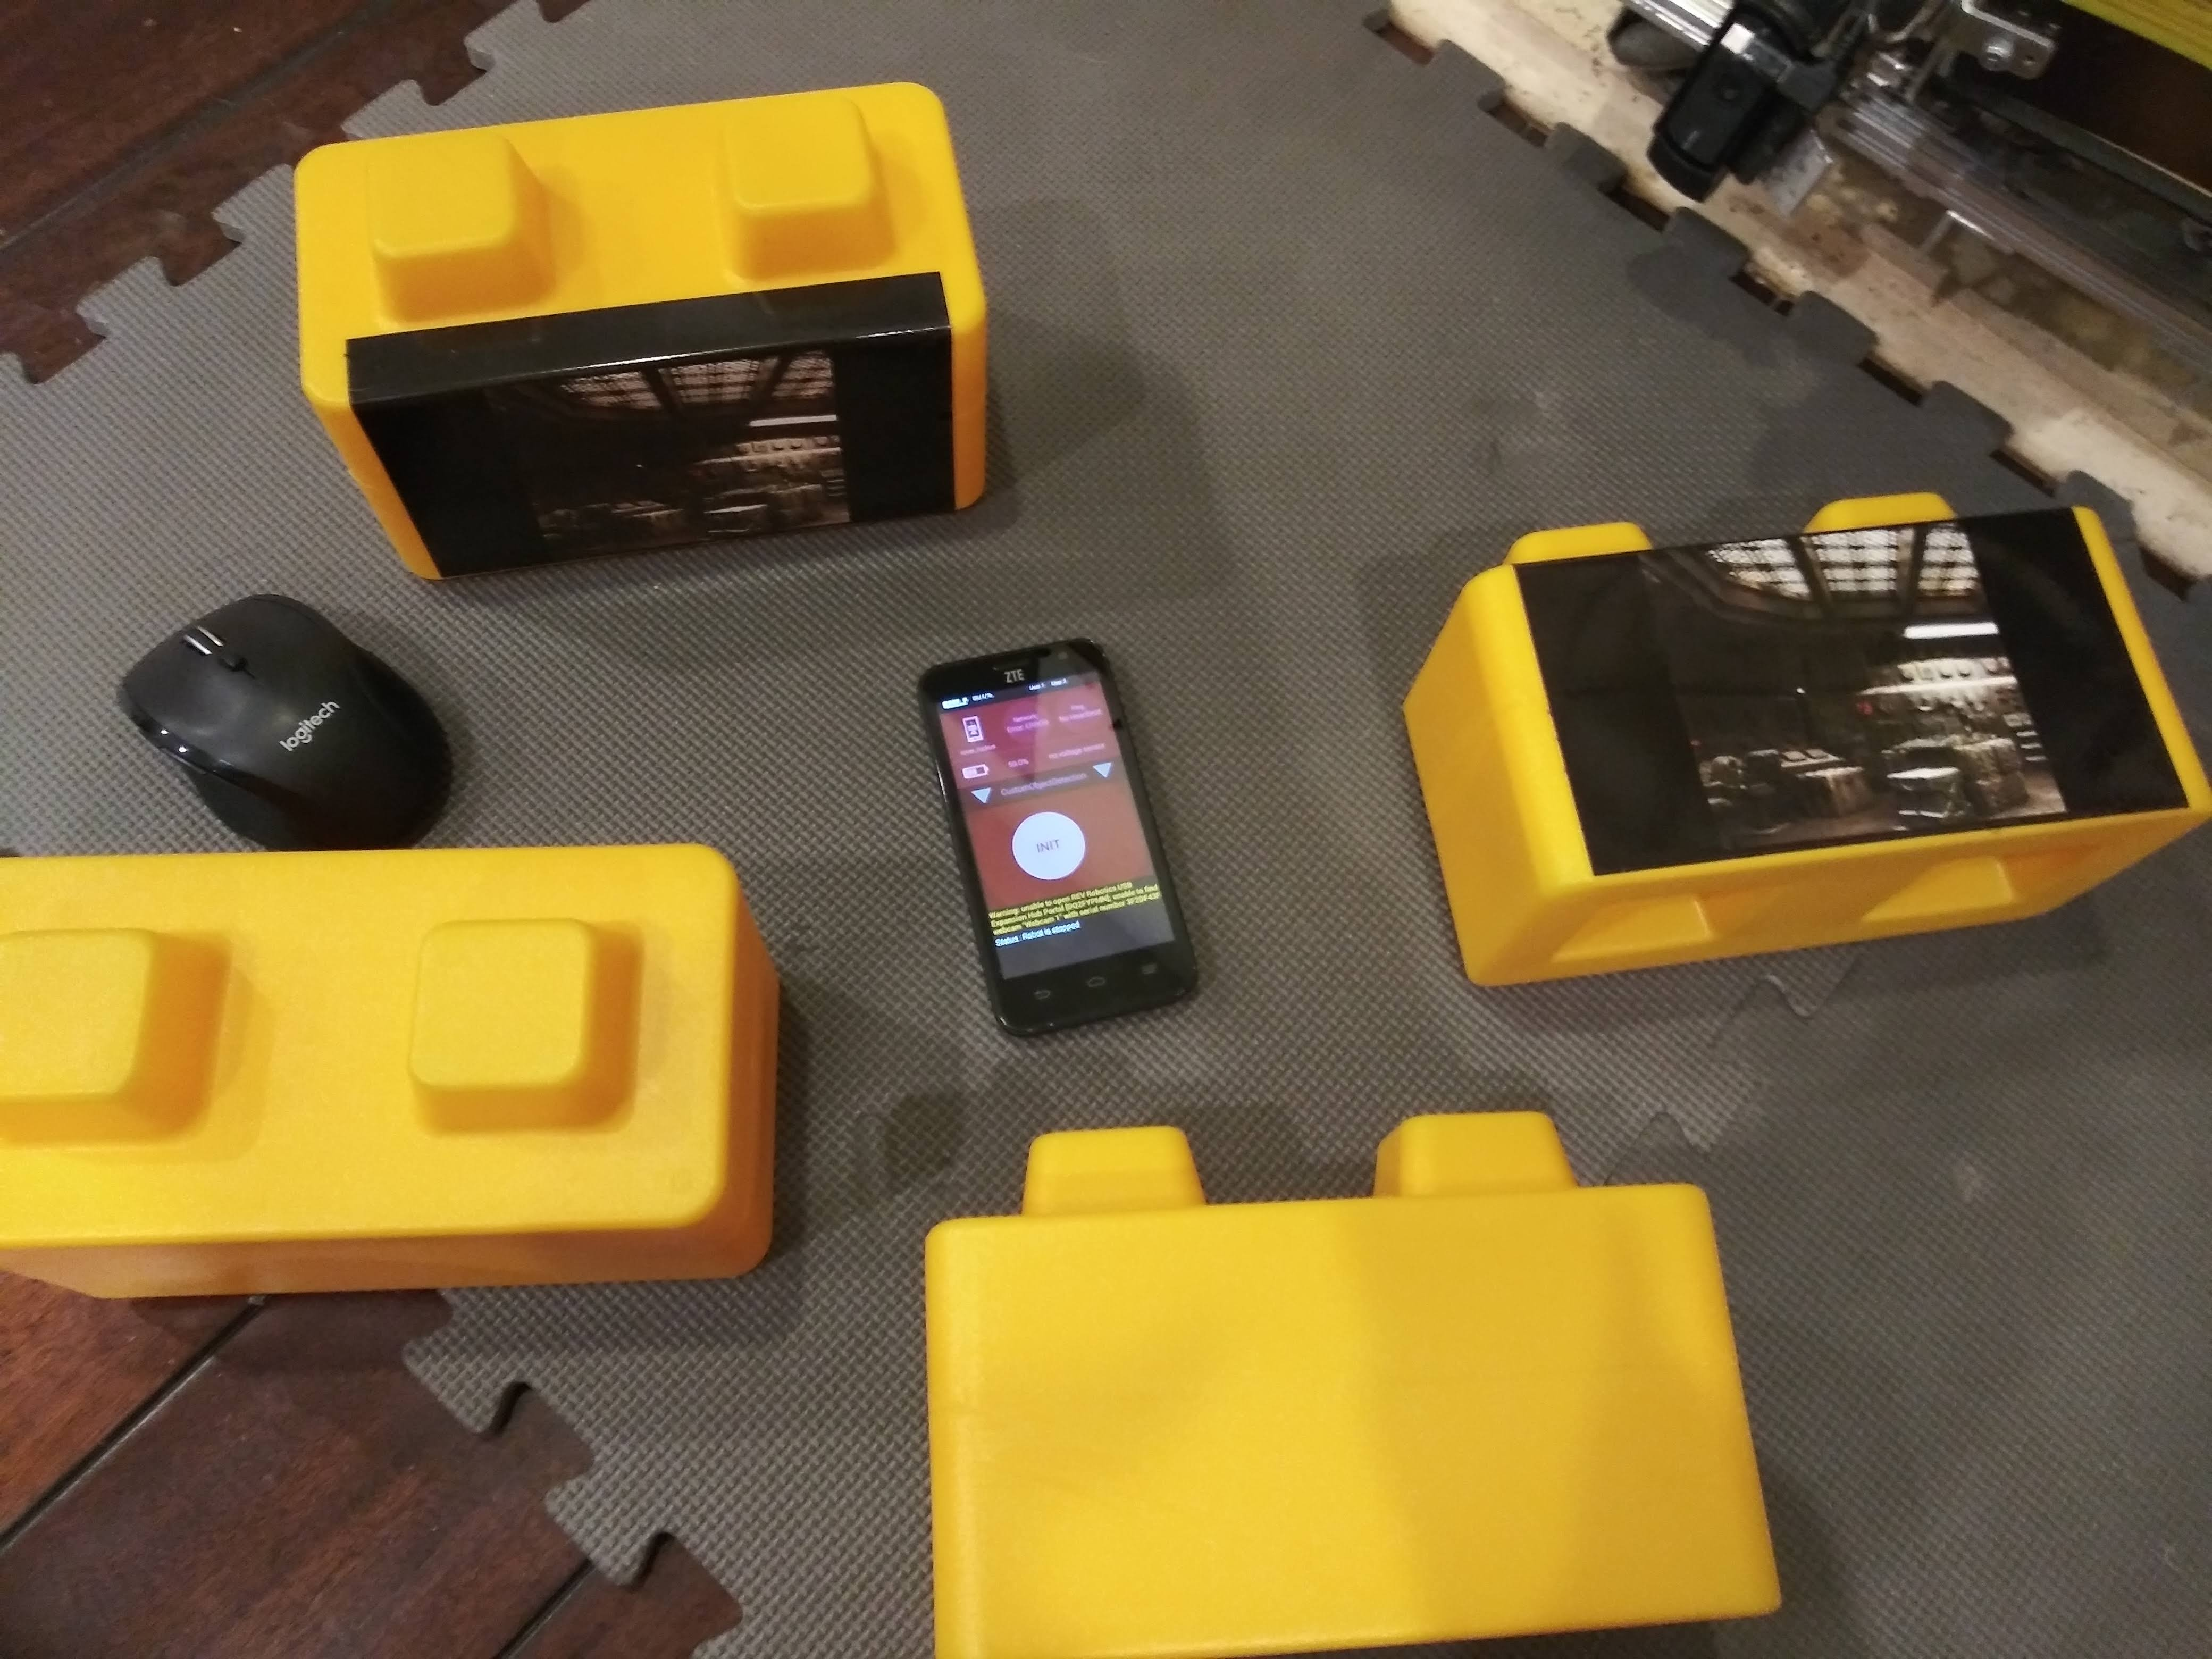skystone: (1437, 526, 2144, 924), (284, 169, 989, 519)
stone: (900, 1161, 1771, 1612), (30, 842, 779, 1291)
